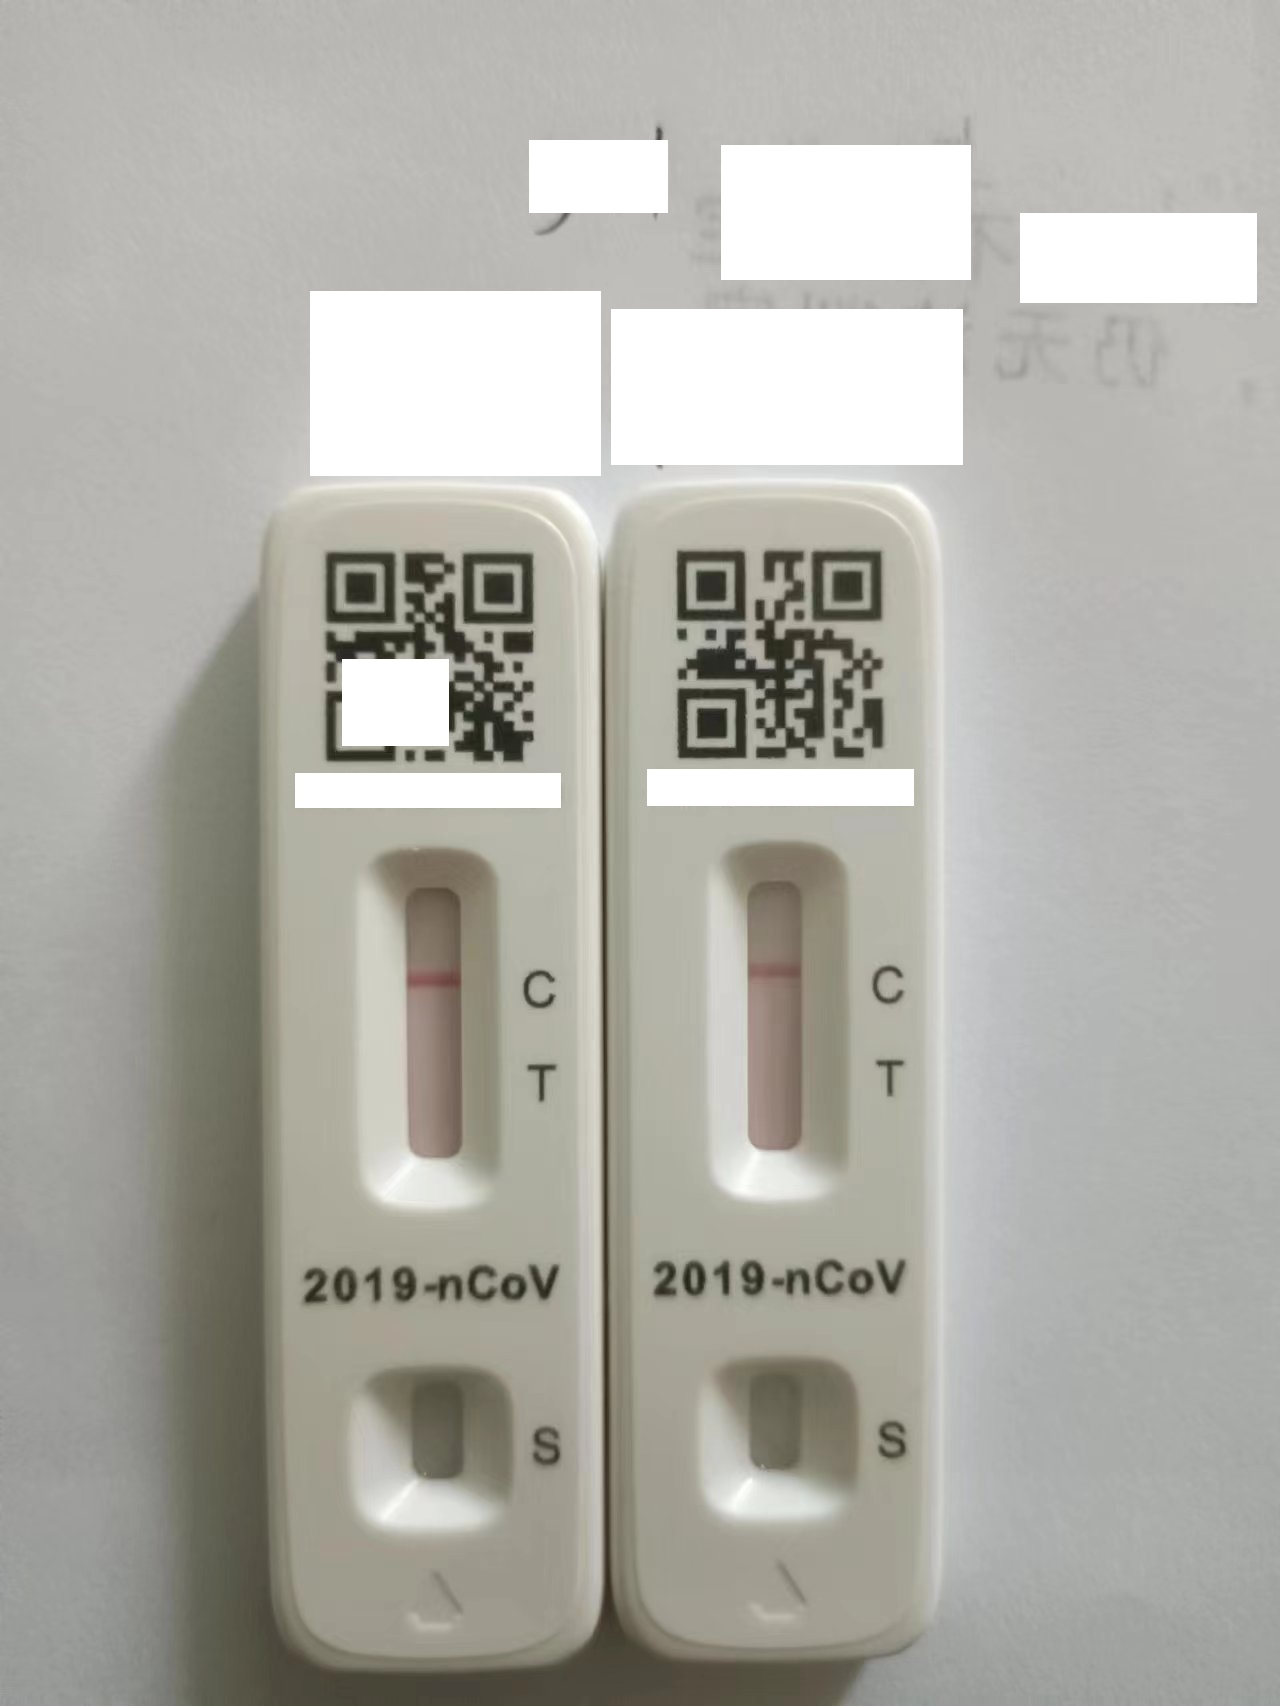negative: (368, 829, 497, 1230), (713, 838, 848, 1213)
